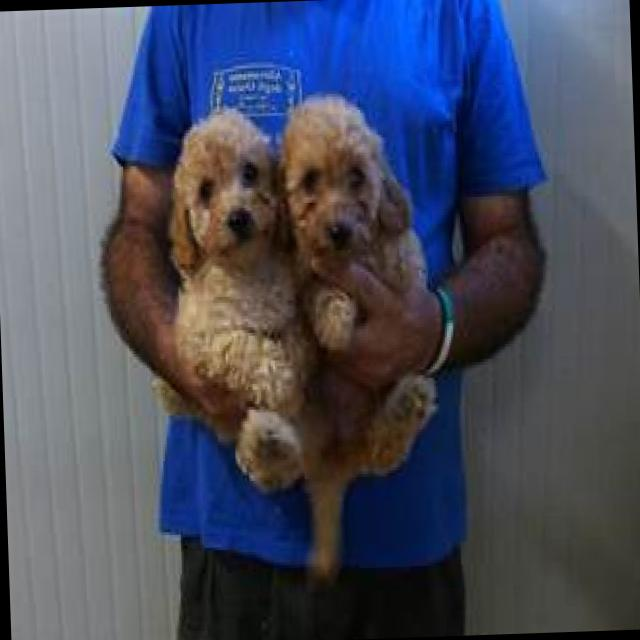animal: (116, 103, 304, 510), (276, 94, 446, 524)
